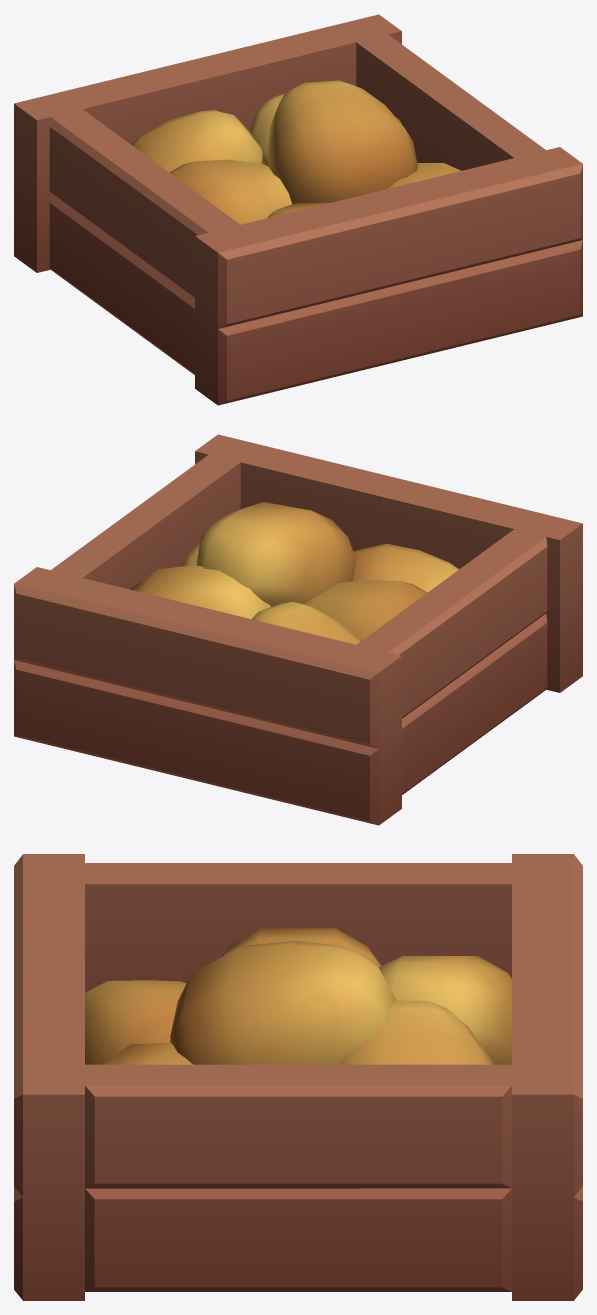
Rendered from crate-potatoes.glb.
3 views of the same model, one above another, from view 1: azimuth 30°, elevation 25°; view 2: azimuth 150°, elevation 25°; view 3: azimuth 270°, elevation 25° (orthographic). The views are drawn at different scales.
Visible parts, largest first — view 1: crate_potatoes; view 2: crate_potatoes; view 3: crate_potatoes.
Part boxes in pixels (left/top/right/bottom): crate_potatoes: left=14, top=14, right=582, bottom=405; crate_potatoes: left=14, top=434, right=582, bottom=825; crate_potatoes: left=14, top=854, right=582, bottom=1300.
Bounding box in the file's own units: 2 × 0.9659 × 2.
1 material, 1 textured.
